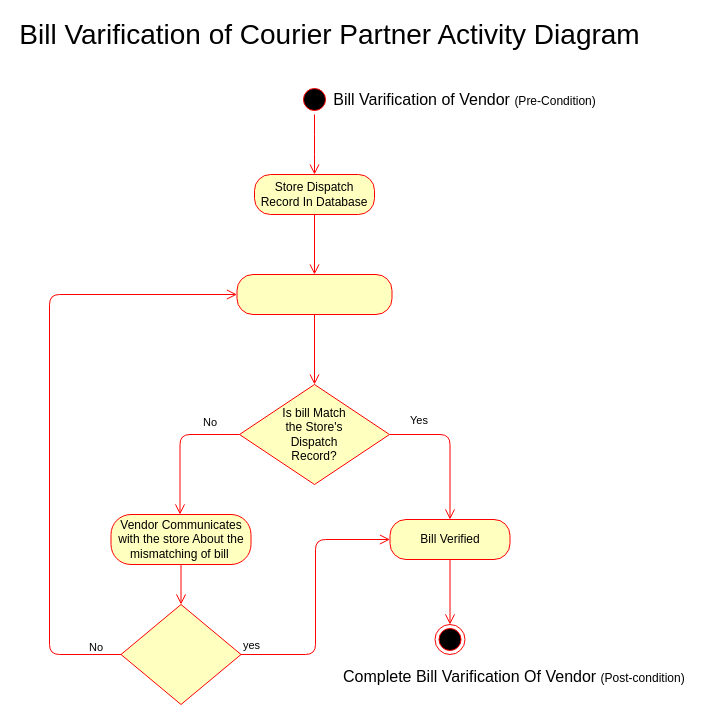
This 719x722 diagram has some shape labels left out. The shapes that lost their labels are listed below. From the top down, each one's box as (x1, y1, x2, y2) in pixels, then its label:
(236, 274, 392, 314): Dispatch Record's bill Genrated By Courier Partner
(120, 604, 241, 704): Is Mismatching of bill is resolved?
